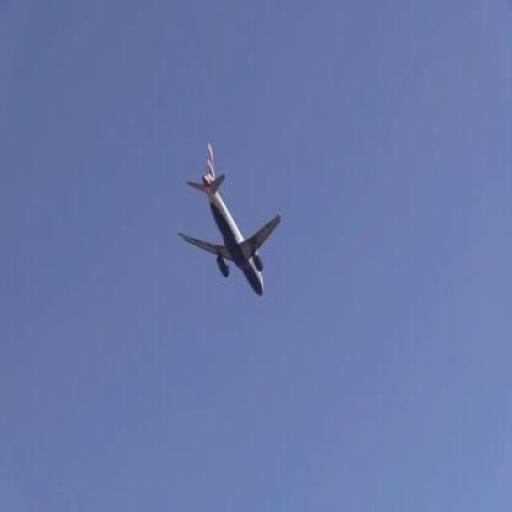aircraft: (180, 142, 283, 296)
